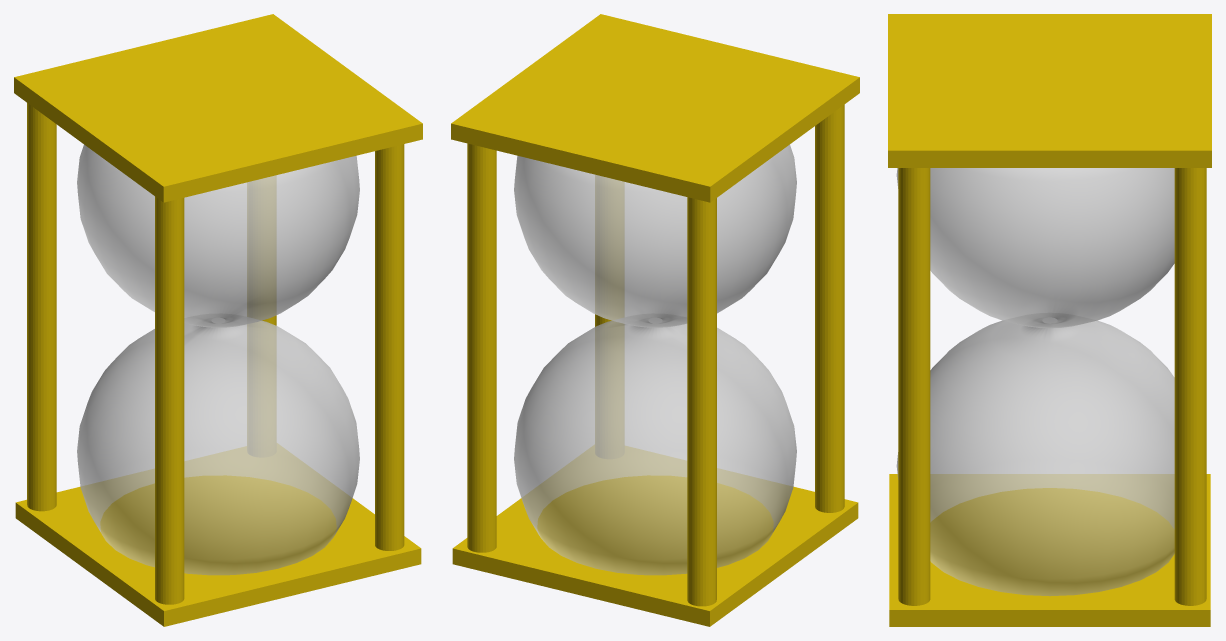
Rendered from HourGlass.fbx.
3 renders of one model, left to right at view 1: azimuth 30°, elevation 25°; view 2: azimuth 150°, elevation 25°; view 3: azimuth 270°, elevation 25°, orthographic. The views are drawn at different scales.
Parts seen in each view (by area): view 1: HourGlass, Cube.001, Cube, Cylinder, Cylinder.001, Cylinder.003, Cylinder.002; view 2: HourGlass, Cube.001, Cube, Cylinder.003, Cylinder.002, Cylinder, Cylinder.001; view 3: HourGlass, Cube.001, Cube, Cylinder.001, Cylinder.002.
Boxes of the visible parts, <box> form: HourGlass: <box>77,144,359,575</box>; Cube.001: <box>14,14,422,202</box>; Cube: <box>15,444,421,626</box>; Cylinder: <box>155,196,184,604</box>; Cylinder.001: <box>375,144,404,550</box>; Cylinder.003: <box>27,103,56,511</box>; Cylinder.002: <box>247,176,276,456</box>; HourGlass: <box>514,144,796,575</box>; Cube.001: <box>451,14,859,202</box>; Cube: <box>452,445,858,626</box>; Cylinder.003: <box>687,197,716,606</box>; Cylinder.002: <box>467,143,496,552</box>; Cylinder: <box>815,104,844,512</box>; Cylinder.001: <box>595,175,623,458</box>; HourGlass: <box>896,168,1174,595</box>; Cube.001: <box>888,14,1211,167</box>; Cube: <box>889,474,1210,626</box>; Cylinder.001: <box>898,168,930,605</box>; Cylinder.002: <box>1174,168,1206,605</box>.
Bounding box in the file's own units: 211 × 343 × 211.
